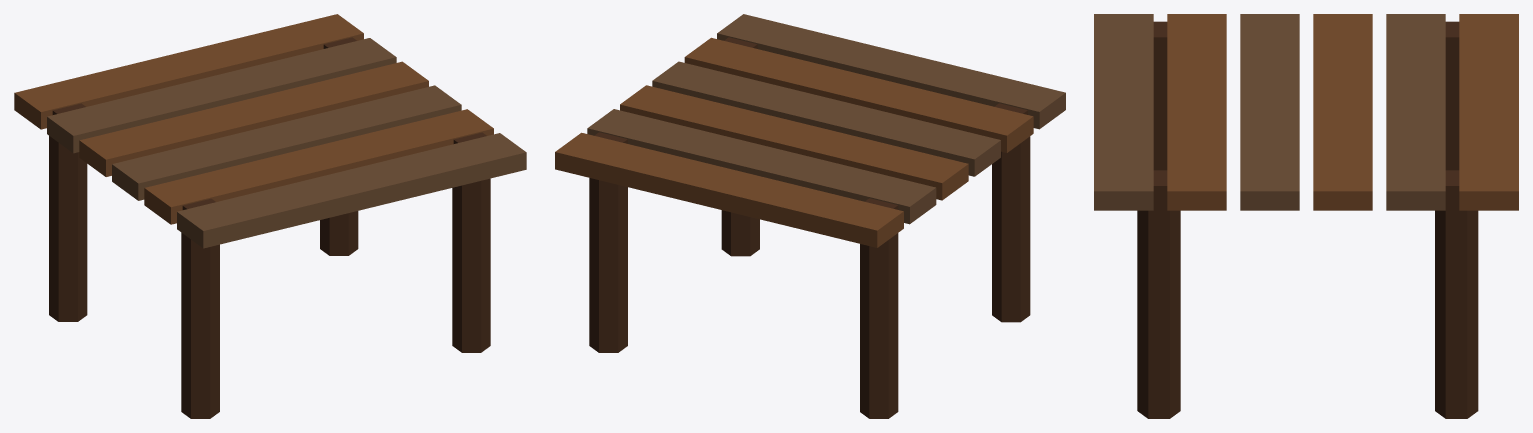
Rendered from dock_plank.glb.
3 renders of one model, left to right at view 1: azimuth 30°, elevation 25°; view 2: azimuth 150°, elevation 25°; view 3: azimuth 270°, elevation 25°, orthographic. The views are drawn at different scales.
Visible parts, largest first — view 1: plank_0, plank_3, plank_4, plank_2, plank_1, plank_5, piling, piling.001, piling.002, piling.003; view 2: plank_5, plank_1, plank_3, plank_2, plank_4, plank_0, piling.001, piling, piling.003, piling.002; view 3: plank_0, plank_1, plank_2, plank_3, plank_4, plank_5, piling.002, piling.003, piling, piling.001.
Part boxes in pixels (<box>): plank_0: <box>177,133,526,248</box>; plank_3: <box>79,61,428,176</box>; plank_4: <box>47,38,396,153</box>; plank_2: <box>112,85,461,200</box>; plank_1: <box>144,109,493,224</box>; plank_5: <box>14,14,363,129</box>; piling: <box>181,198,219,418</box>; piling.001: <box>49,103,87,321</box>; piling.002: <box>452,132,490,352</box>; piling.003: <box>320,37,358,255</box>; plank_5: <box>555,132,903,247</box>; plank_1: <box>684,37,1033,152</box>; plank_3: <box>620,85,968,200</box>; plank_2: <box>652,61,1000,176</box>; plank_4: <box>587,109,936,224</box>; plank_0: <box>717,14,1065,129</box>; piling.001: <box>860,198,898,418</box>; piling: <box>992,103,1030,322</box>; piling.003: <box>589,132,627,352</box>; piling.002: <box>721,37,759,256</box>; plank_0: <box>1094,14,1153,210</box>; plank_1: <box>1167,14,1226,210</box>; plank_2: <box>1240,14,1299,210</box>; plank_3: <box>1313,14,1372,210</box>; plank_4: <box>1386,14,1445,210</box>; plank_5: <box>1459,14,1518,210</box>; piling.002: <box>1137,170,1180,418</box>; piling.003: <box>1435,170,1478,418</box>; piling: <box>1153,21,1167,170</box>; piling.001: <box>1445,21,1459,170</box>.
Size of the model in its own units: 1.55 by 0.955 by 1.57.
